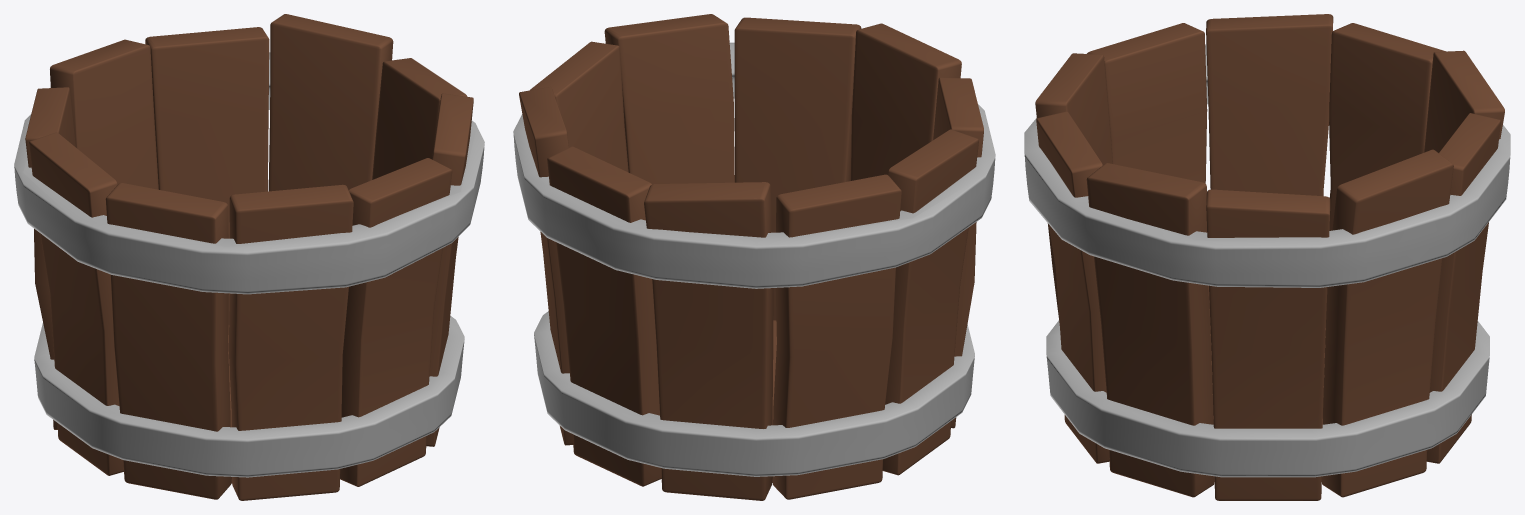
File: Bucket.fbx
The picture shows the model from 3 angles, left to right: view 1: azimuth 30°, elevation 25°; view 2: azimuth 150°, elevation 25°; view 3: azimuth 270°, elevation 25°; orthographic projection. The views are drawn at different scales.
Visible parts, largest first — view 1: Bucket; view 2: Bucket; view 3: Bucket.
Boxes of the visible parts, left/top/right/bottom form: Bucket: left=14, top=14, right=484, bottom=500; Bucket: left=513, top=14, right=995, bottom=500; Bucket: left=1024, top=14, right=1510, bottom=500.
Bounding box in the file's own units: 238 × 177 × 243.
